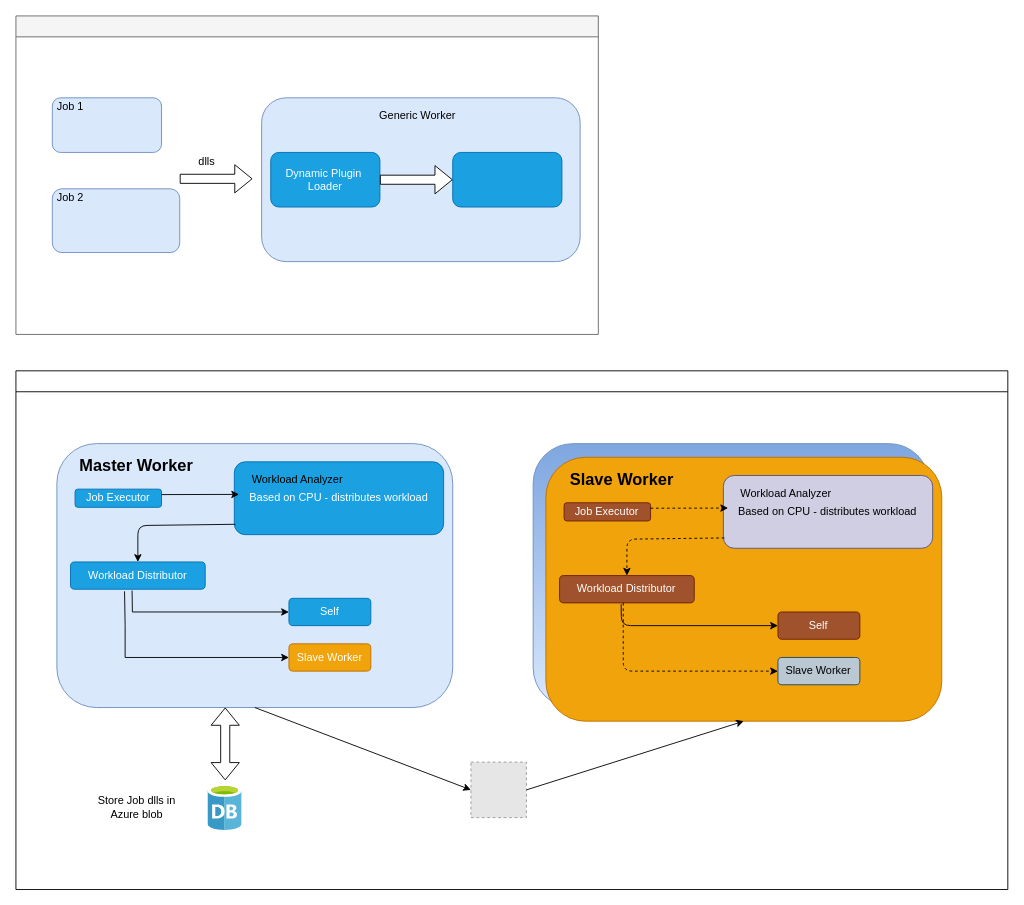
Some shapes in this 1024 by 905 pixel diagram are drawn without their labels. Grey dashed boxes stand in for pictures. The shapes that lost their labels are listed below. From the top down, each one's box as (x1, y1, x2, y2) in pixels, then its label:
(51, 97, 162, 152): Crawler Plugin
(15, 15, 598, 334): Job ( Plugin) Execution Architecture
(452, 152, 562, 207): Job Executer
(51, 188, 180, 253): Data Processor Plugin
(15, 370, 1008, 890): Worker - Master/Slave Architecture
